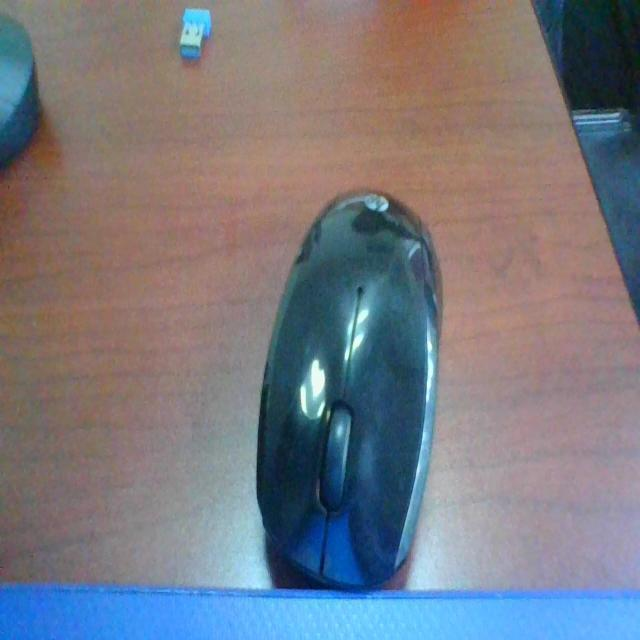Mouse: (229, 166, 463, 594)
